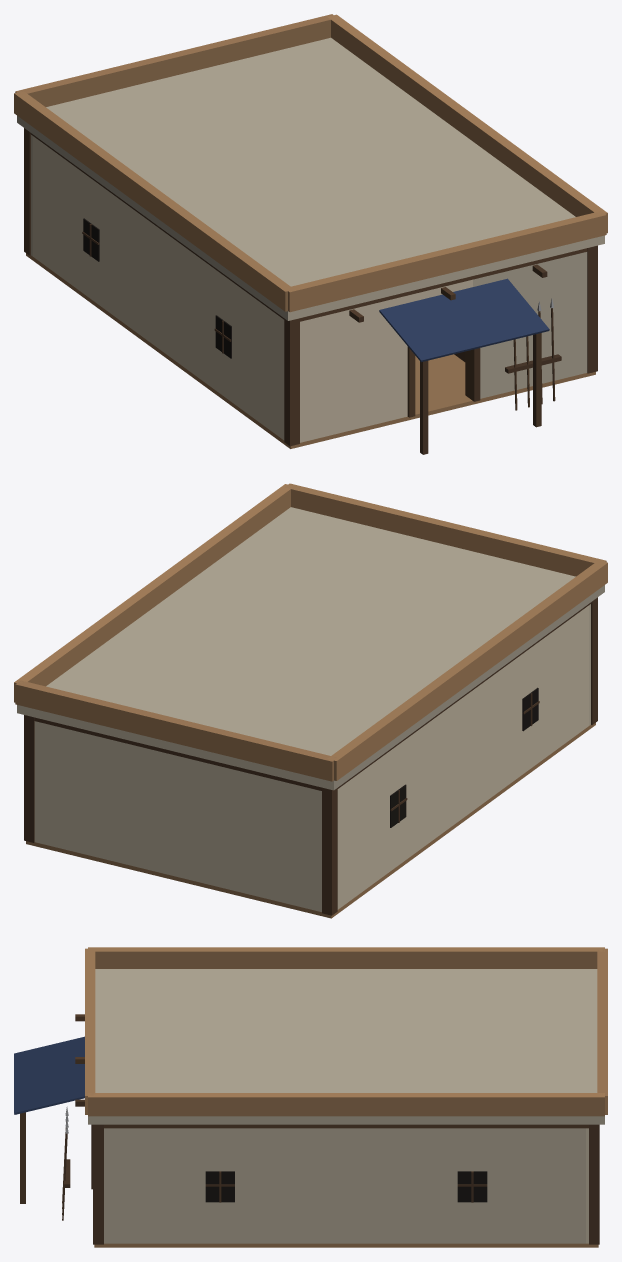
Rendered from walk_sunborn_barracks.glb.
3 views of the same model, one above another, from view 1: azimuth 30°, elevation 25°; view 2: azimuth 150°, elevation 25°; view 3: azimuth 270°, elevation 25° (orthographic). The views are drawn at different scales.
Visible parts, largest first — view 1: walk_sunborn_barracks_roof, walk_sunborn_barracks; view 2: walk_sunborn_barracks_roof, walk_sunborn_barracks; view 3: walk_sunborn_barracks_roof, walk_sunborn_barracks.
Part boxes in pixels (box(x1,y1,x2,y2)): walk_sunborn_barracks_roof: box(14, 14, 607, 320); walk_sunborn_barracks: box(24, 128, 597, 454); walk_sunborn_barracks_roof: box(14, 483, 607, 790); walk_sunborn_barracks: box(24, 597, 597, 918); walk_sunborn_barracks_roof: box(85, 947, 607, 1124); walk_sunborn_barracks: box(14, 1014, 599, 1247).
Size of what is drawn, in the model's own units: 8.45 by 4.05 by 14.14.
2 materials, 2 textured.
